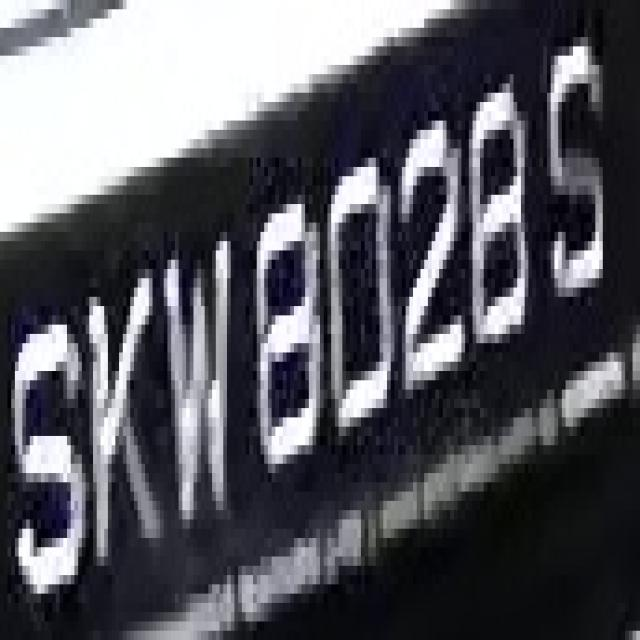0: (324, 130, 398, 464)
2: (391, 93, 461, 436)
8: (461, 74, 536, 380), (249, 185, 324, 464)
K: (71, 232, 160, 603)
S: (11, 306, 89, 640), (547, 37, 618, 334)
W: (156, 213, 238, 548)
